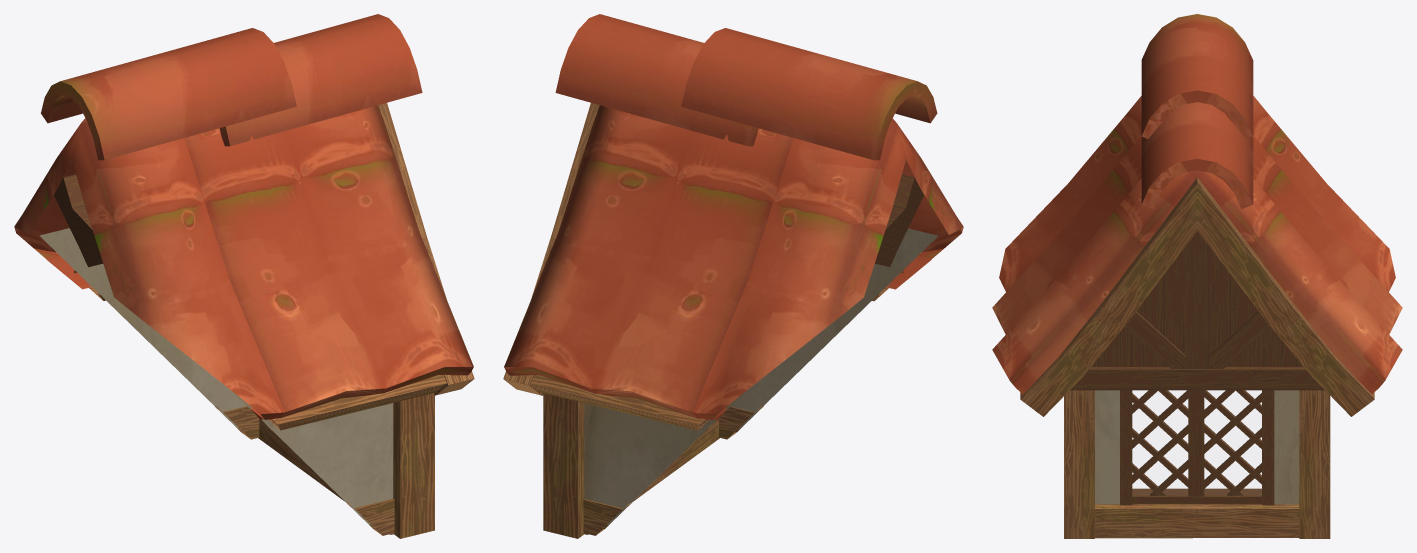
The model's file is Roof_Dormer_RoundTile.gltf.
The picture shows the model from 3 angles, left to right: view 1: azimuth 30°, elevation 25°; view 2: azimuth 150°, elevation 25°; view 3: azimuth 270°, elevation 25°; orthographic projection. The views are drawn at different scales.
Visible parts, largest first — view 1: Roof_Dormer_RoundTile; view 2: Roof_Dormer_RoundTile; view 3: Roof_Dormer_RoundTile.
Part boxes in pixels (bbox=[...]): Roof_Dormer_RoundTile: bbox=[14, 14, 474, 538]; Roof_Dormer_RoundTile: bbox=[503, 14, 963, 538]; Roof_Dormer_RoundTile: bbox=[992, 14, 1402, 538].
Bounding box in the file's own units: 1.97 × 2.67 × 2.44.
4 materials, 3 textured.
